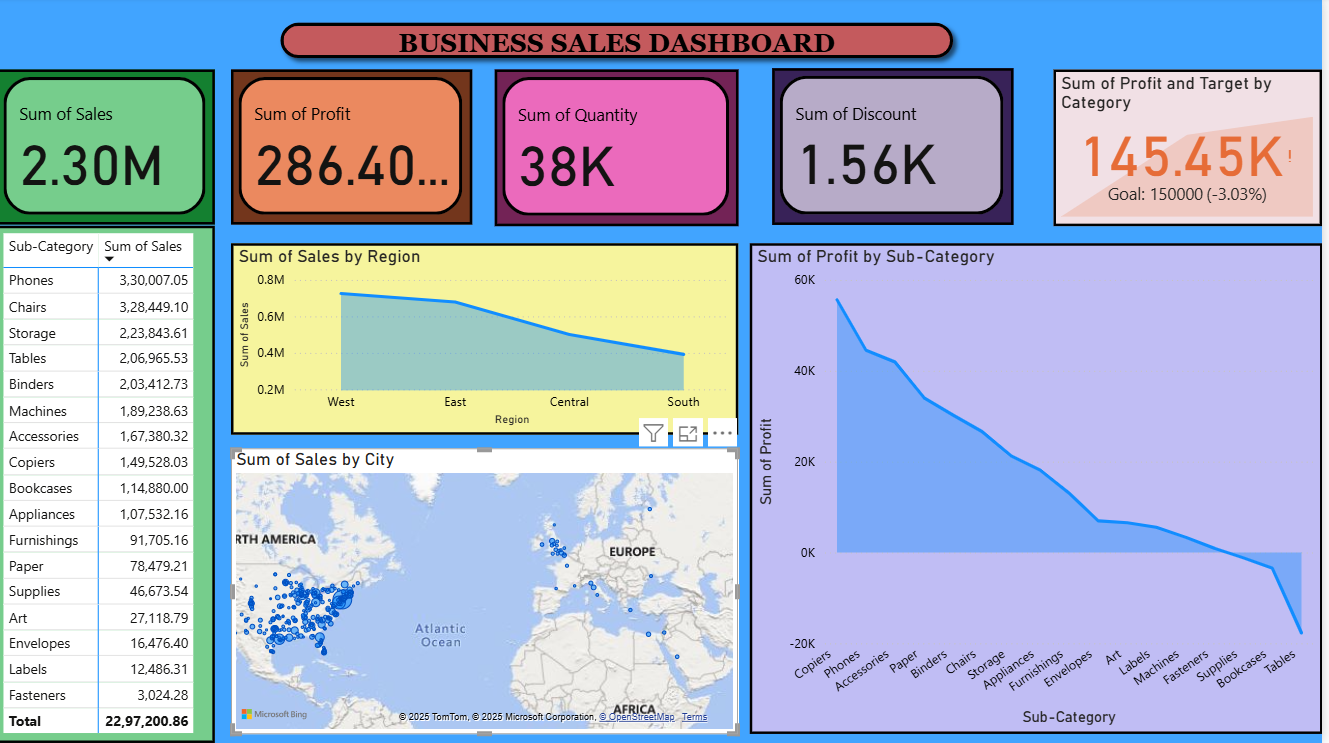

The dashboard page shown, as its layout file describes it:
{"tool":"powerbi","page":{"name":"Page 2","canvas":[1280,720],"ordinal":1},"visuals":[{"type":"cardVisual","fields":{"Data":["Sum(Orders.Sales)"]},"box":[0,70,211.1,149.6],"z":0},{"type":"cardVisual","fields":{"Data":["Sum(Orders.Profit)"]},"box":[226.8,70,232.8,149.6],"z":1000},{"type":"kpi","fields":{"Indicator":["Sum(Orders.Profit)"],"TrendLine":["Orders.Category"],"Goal":["Orders.Target"]},"box":[1020.6,70,259.4,150.8],"z":2000},{"type":"cardVisual","fields":{"Data":["Sum(Orders.Quantity)"]},"box":[481.4,70,235.3,150.8],"z":2001},{"type":"cardVisual","fields":{"Data":["Sum(Orders.Discount)"]},"box":[749.2,68.8,232.8,150.8],"z":2002},{"type":"pivotTable","fields":{"Rows":["Orders.Sub-Category"],"Values":["Sum(Orders.Sales)"]},"box":[0,220.8,211.1,499.5],"z":2003},{"type":"areaChart","fields":{"Y":["Sum(Orders.Sales)"],"Category":["Orders.Region"]},"box":[226.8,237.7,489.8,211.1],"z":2004},{"type":"map","fields":{"Category":["Orders.City"],"Size":["Sum(Orders.Sales)"]},"box":[226.8,460.9,489.8,249.7],"z":2005},{"type":"areaChart","fields":{"Category":["Orders.Sub-Category"],"Y":["Sum(Orders.Profit)"]},"box":[727.5,237.5,552.5,473.8],"z":2006},{"type":"shape","box":[265,16.2,667.5,52.5],"z":2007}]}

Visuals, with their boxes in screenshot pixels (x1, y1, x2, y2), scaled from the page's 1280x720 canvas onto the 1329x743 screenshot:
cardVisual - Sum(Orders.Sales): x1=0, y1=72, x2=219, y2=227
cardVisual - Sum(Orders.Profit): x1=235, y1=72, x2=477, y2=227
kpi - Sum(Orders.Profit) x Orders.Category: x1=1060, y1=72, x2=1328, y2=228
cardVisual - Sum(Orders.Quantity): x1=500, y1=72, x2=744, y2=228
cardVisual - Sum(Orders.Discount): x1=778, y1=71, x2=1020, y2=227
pivotTable - Orders.Sub-Category x Sum(Orders.Sales): x1=0, y1=228, x2=219, y2=742
areaChart - Sum(Orders.Sales) x Orders.Region: x1=235, y1=245, x2=744, y2=463
map - Orders.City x Sum(Orders.Sales): x1=235, y1=476, x2=744, y2=733
areaChart - Orders.Sub-Category x Sum(Orders.Profit): x1=755, y1=245, x2=1328, y2=734
shape: x1=275, y1=17, x2=968, y2=71
